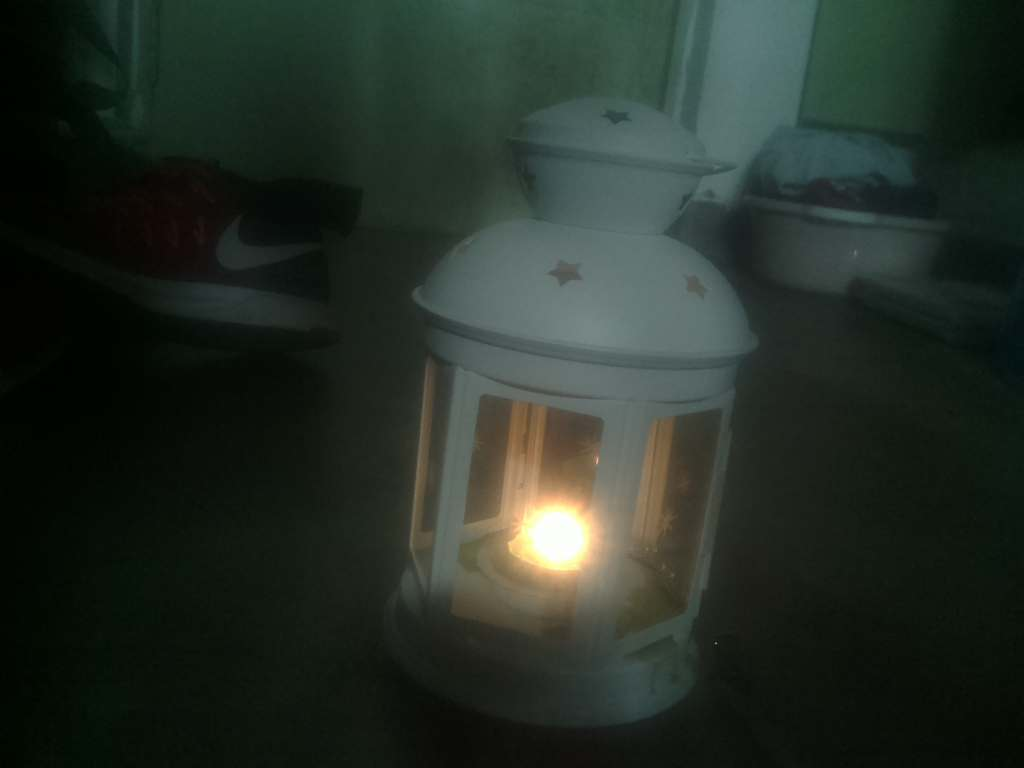fire: (483, 478, 600, 589)
